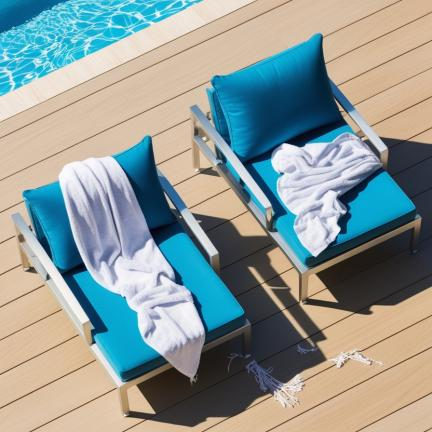guest on chair: (138, 187, 141, 191)
occupied chair: (13, 136, 251, 415), (191, 34, 421, 302)
